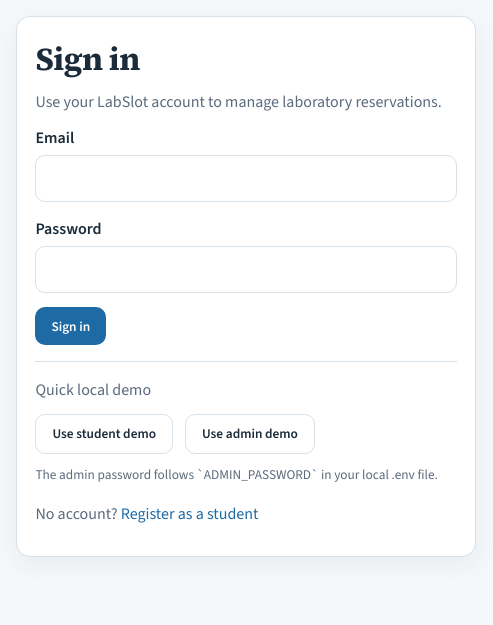
it: shows validation errors for empty login
What coordinates should you click on to do the following:
click the button "Sign in"
I would click on:
 (71, 326)
Its box is [35,307,106,345].
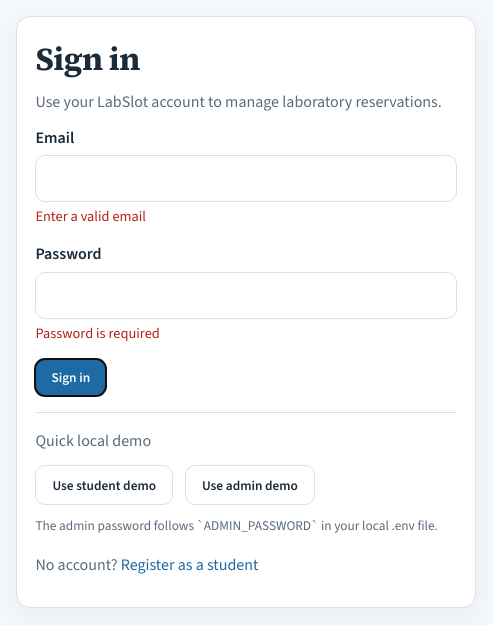
Check: the text "Enter a valid email" is shown, box [35,207,146,226]
Check: the text "Password is required" is shown, box [35,324,160,342]
